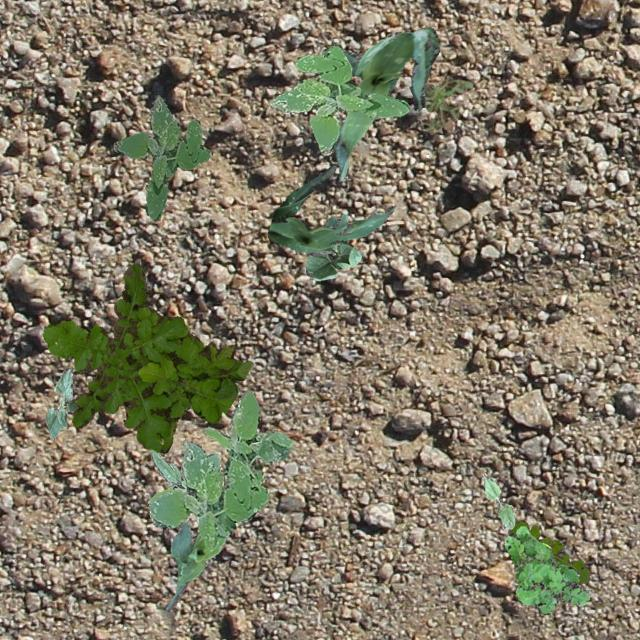crop: (322, 26, 438, 180), (266, 164, 394, 254), (163, 518, 224, 608), (304, 216, 360, 280), (44, 368, 78, 440), (480, 472, 514, 528)
weed: (42, 262, 252, 452), (147, 389, 290, 548), (268, 44, 408, 154), (112, 94, 208, 220), (503, 526, 592, 614), (507, 518, 589, 584), (148, 448, 220, 504), (418, 76, 472, 130)
